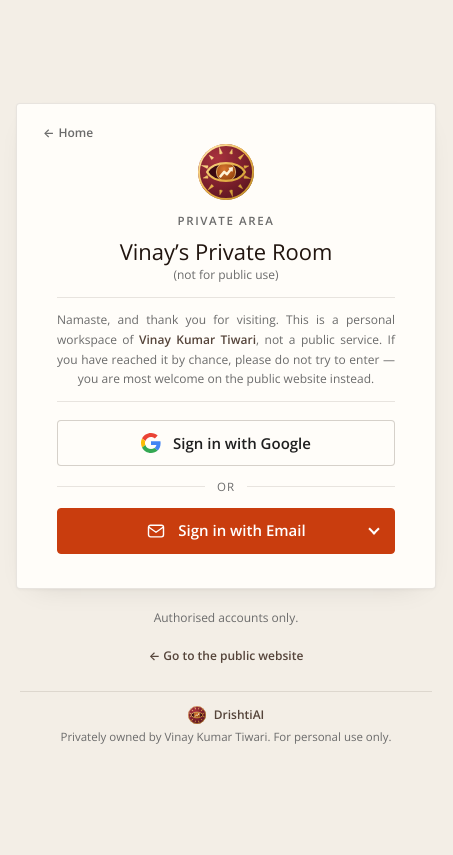
Test: an address that is not on the list gets the red refusal and nothing else: no password field, no reset, no code
This screenshot has width=453, height=855.
Click the button "Sign in with Email".
click(226, 530)  # box [57,508,395,554]
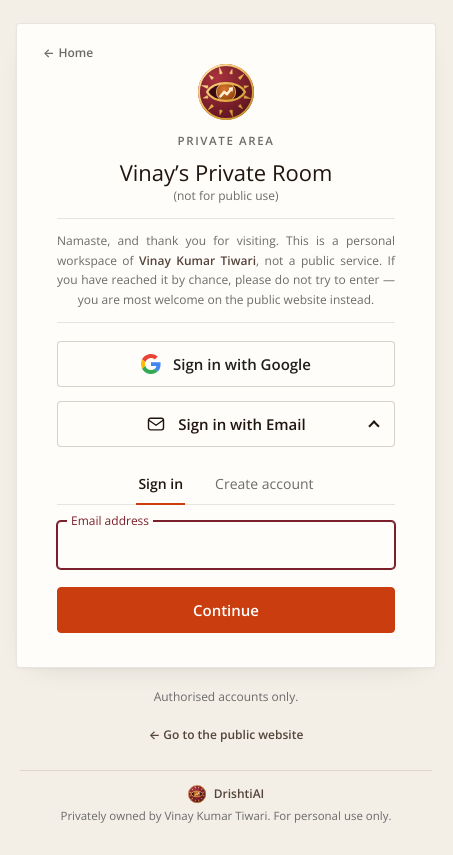
Type "stranger@elsewhere.org" into the field labelled "Email address".
click(226, 545); type("stranger@elsewhere.org")  # box [57,521,395,569]
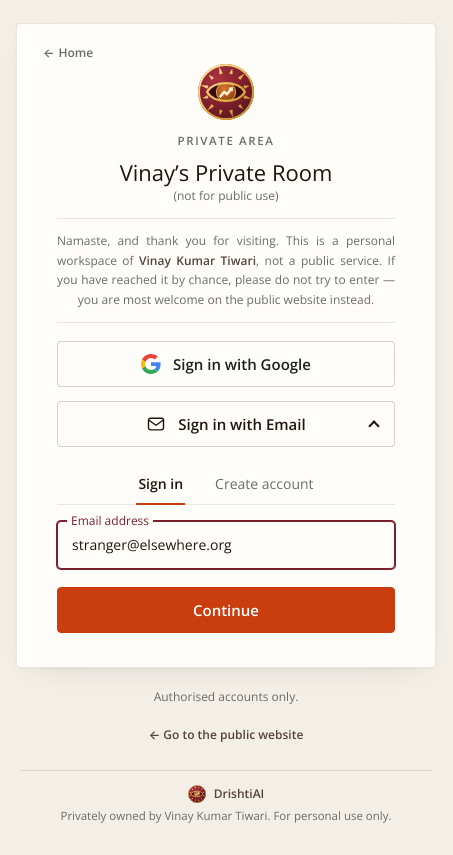
Click the button "Continue".
click(226, 610)  # box [57,587,395,633]
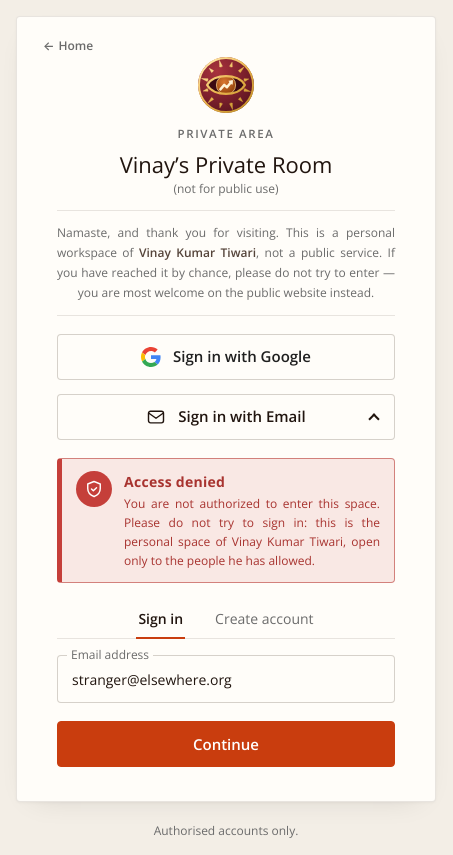
Check: the message shows "Access denied", box [124,472,225,491]
